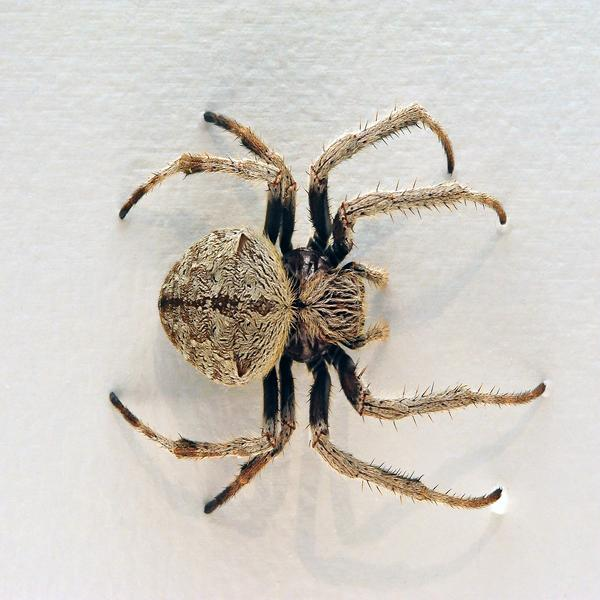Garden Orb Weaver Spider: (124, 111, 541, 513)
